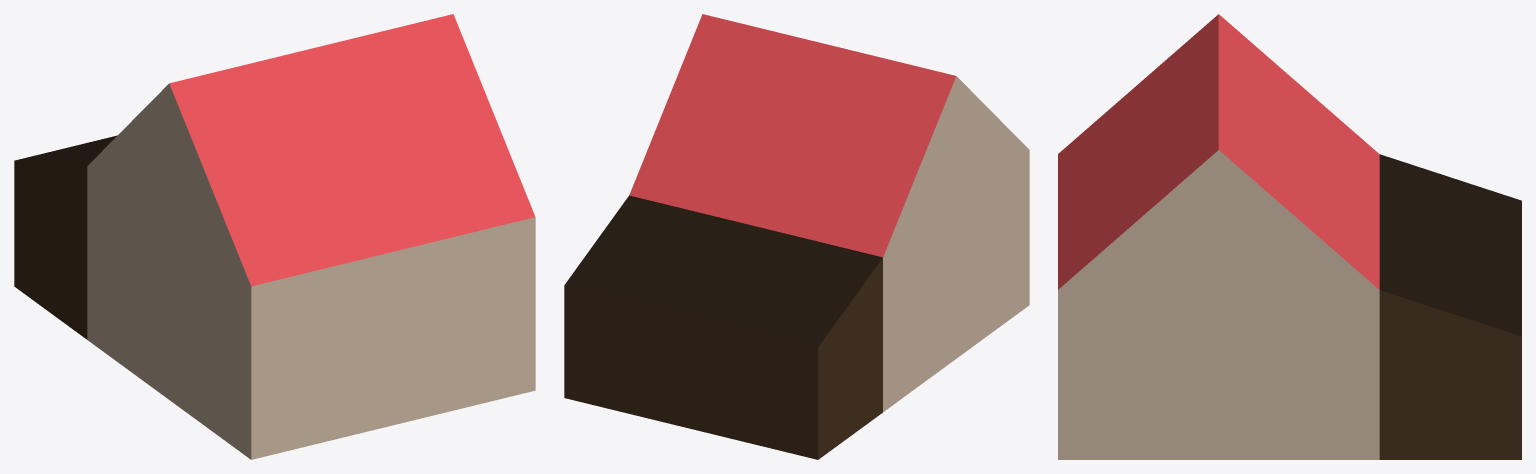
The model's file is NPC_house_2.glb.
The picture shows the model from 3 angles, left to right: view 1: azimuth 30°, elevation 25°; view 2: azimuth 150°, elevation 25°; view 3: azimuth 270°, elevation 25°; orthographic projection. The views are drawn at different scales.
Visible parts, largest first — view 1: Cube; view 2: Cube; view 3: Cube.
Boxes of the visible parts, x1=… form: Cube: x1=14, y1=14, x2=535, y2=459; Cube: x1=564, y1=14, x2=1029, y2=459; Cube: x1=1058, y1=14, x2=1521, y2=459.
Bounding box in the file's own units: 6 × 6.39 × 8.66.
